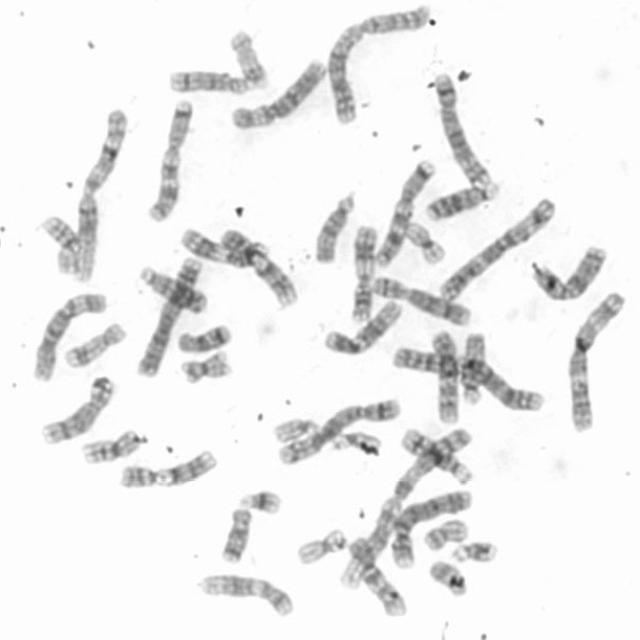A1: (339, 427, 473, 588), (71, 108, 128, 281)
A2: (326, 5, 430, 124), (390, 346, 544, 412)
A3: (439, 198, 556, 304), (569, 291, 625, 432)
B4: (136, 256, 203, 378), (390, 488, 472, 569)
B5: (434, 72, 499, 202), (278, 398, 402, 464)
C10: (348, 536, 407, 617), (430, 329, 460, 424)
C11: (180, 226, 268, 269), (349, 225, 379, 323)
C12: (323, 299, 403, 356), (200, 574, 293, 616)
C6: (231, 59, 327, 130), (33, 292, 107, 382)
C7: (376, 159, 436, 268), (147, 99, 193, 222)
C8: (41, 374, 114, 444), (371, 275, 471, 326)
C9: (220, 228, 298, 305), (120, 449, 218, 487)
D13: (138, 264, 208, 314), (424, 181, 500, 220)
D14: (402, 427, 473, 486), (169, 69, 248, 96)
D15: (314, 194, 356, 264), (458, 330, 487, 406)
E16: (39, 215, 82, 275), (82, 429, 142, 463)
E17: (64, 321, 127, 368), (228, 29, 268, 89)
E18: (221, 508, 253, 565), (177, 324, 231, 354)
F19: (296, 528, 348, 565), (403, 220, 445, 264)
F20: (179, 349, 233, 383), (423, 518, 469, 551)
G21: (238, 490, 281, 514), (452, 540, 498, 562)
G22: (331, 430, 381, 457), (272, 418, 321, 444)
X: (532, 244, 608, 301)
Y: (429, 561, 466, 597)
